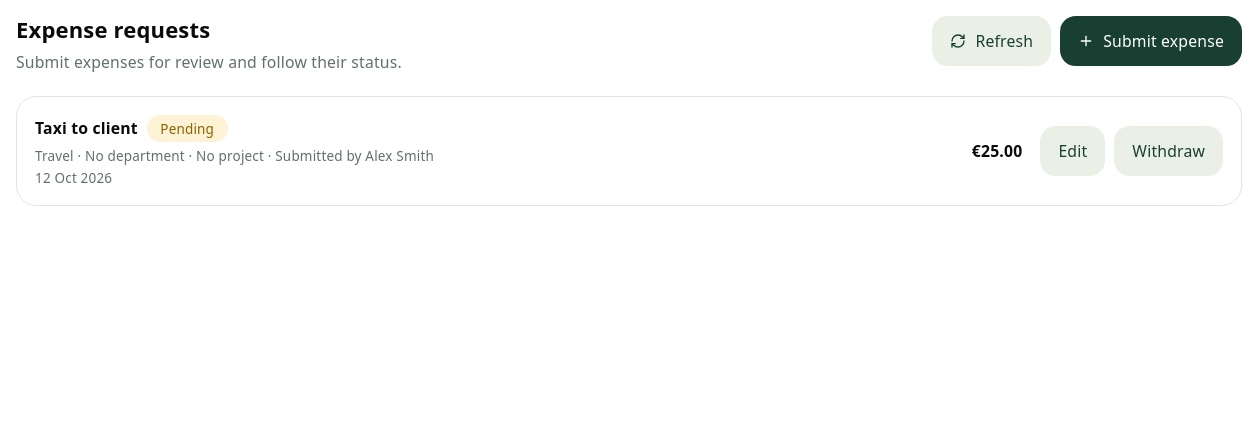
confirms withdrawal, permits cancellation, and retains a request on deletion failure
Click the button with aria-label "Withdraw Taxi to client": x=1169, y=151 [1114, 126, 1223, 176]
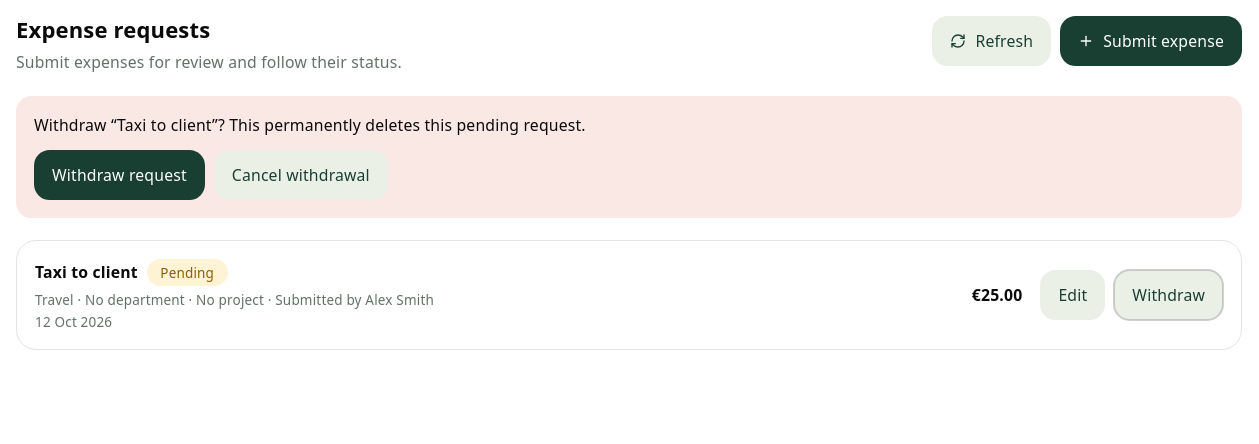
Click the button "Cancel withdrawal": x=301, y=175 [214, 150, 388, 200]
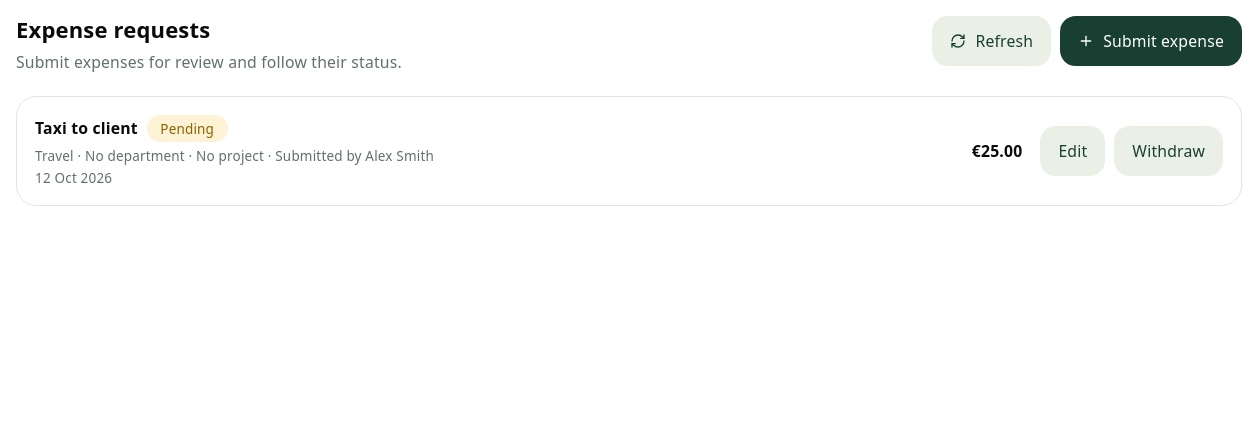
Click the button with aria-label "Withdraw Taxi to client": x=1169, y=151 [1114, 126, 1223, 176]
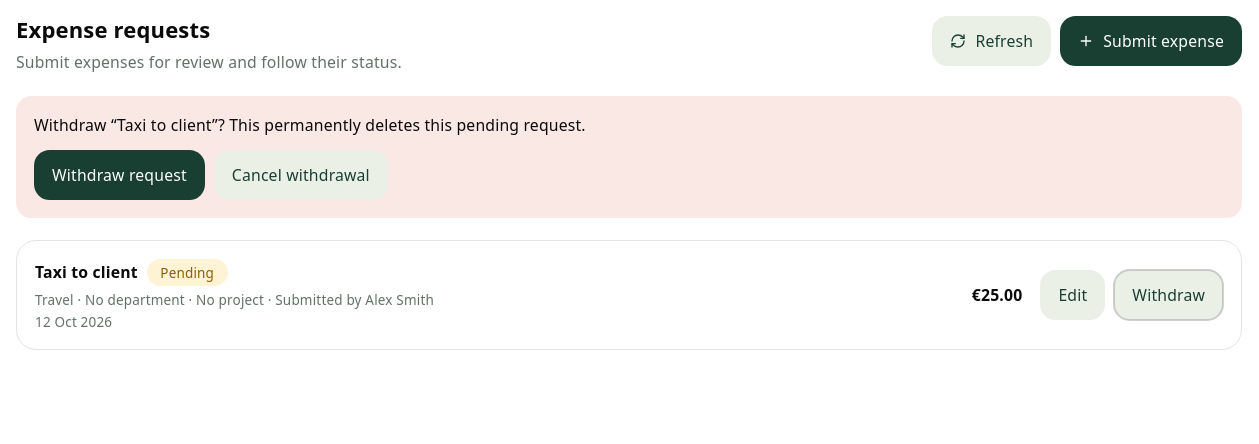
Click the button "Withdraw request": x=119, y=175 [34, 150, 205, 200]
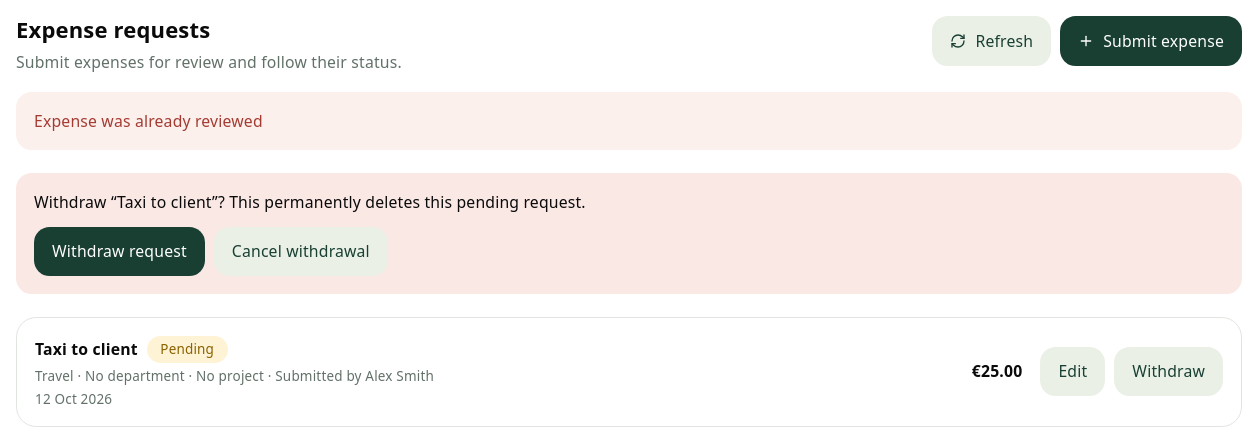
Expected: the list shows "Taxi to client", [35, 338, 138, 360]
Expected: the message reads "Expense was already reviewed", [34, 110, 263, 132]
Click the button "Withdraw request": x=119, y=251 [34, 227, 205, 276]
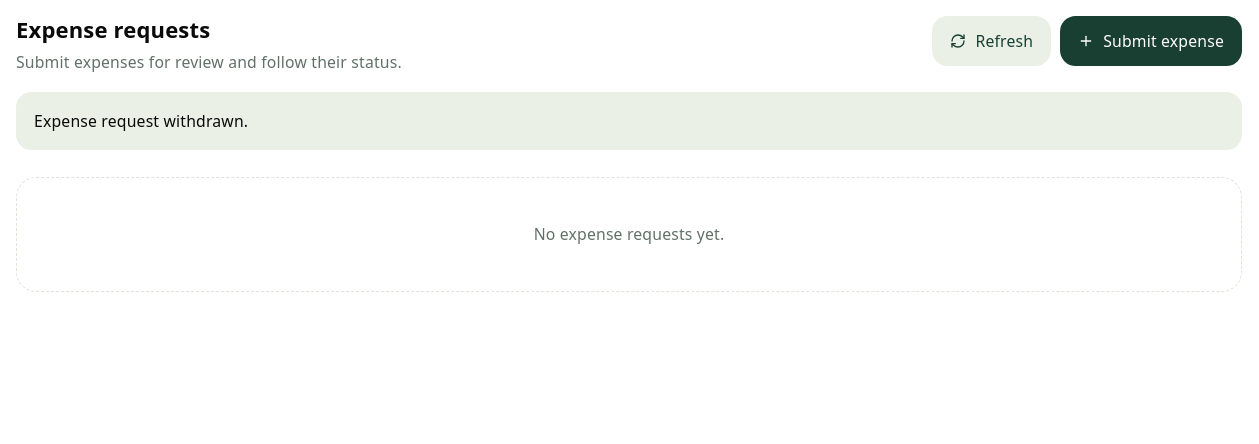
Expected: the text "No expense requests yet." is shown, [16, 177, 1242, 292]
